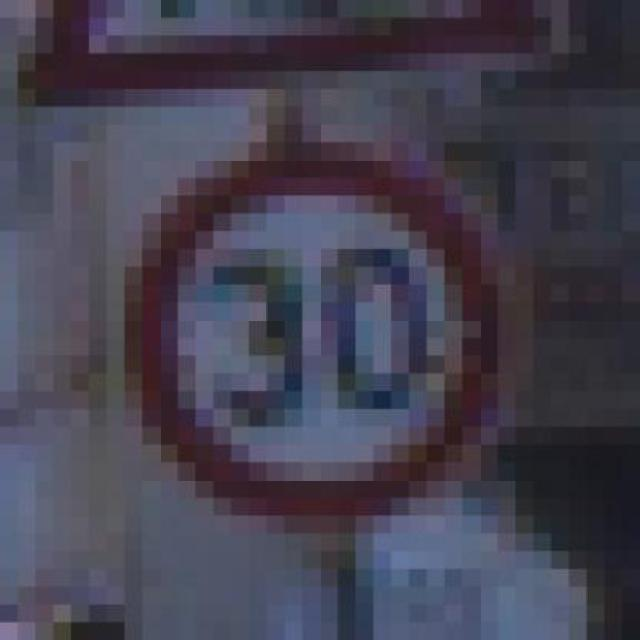Speed Limit 30 KMPh: (53, 142, 569, 533)
